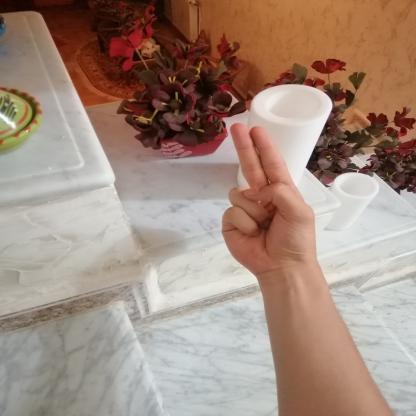TA: (198, 110, 334, 282)
